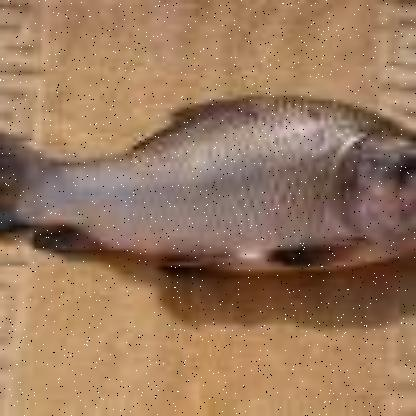ikan-mas: (0, 87, 414, 281)
